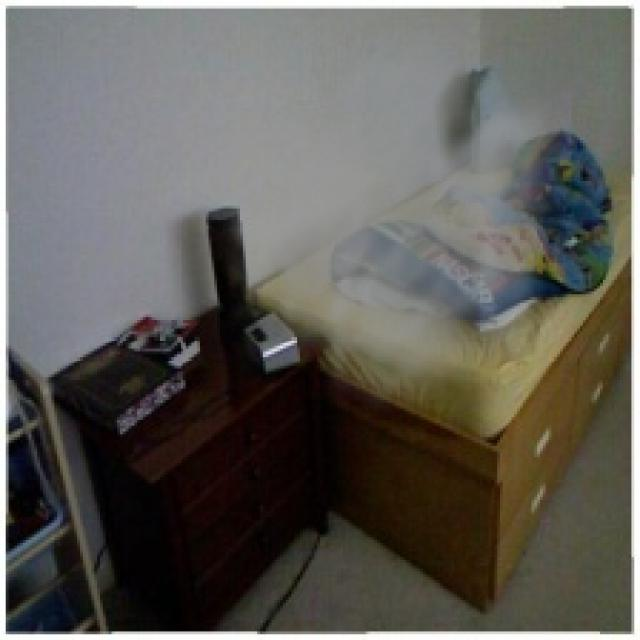smoke: (186, 8, 571, 423)
